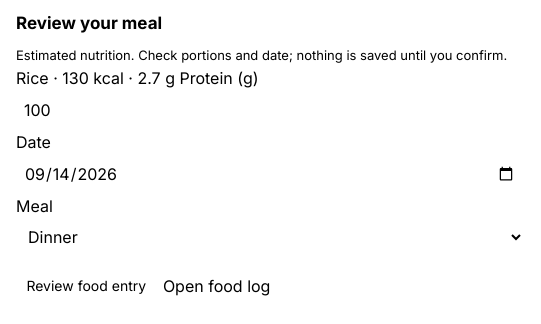
Test: text Food functional review controls › preselects an explicit dinner without writing: I ate 90 g banana for dinner today.
Check: the dropdown shows "Dinner", box [16,218,524,256]
What coordinates should you click on to do the following:
click the button "Review food entry"
I would click on:
 (86, 286)
Its box is [16,264,156,308].
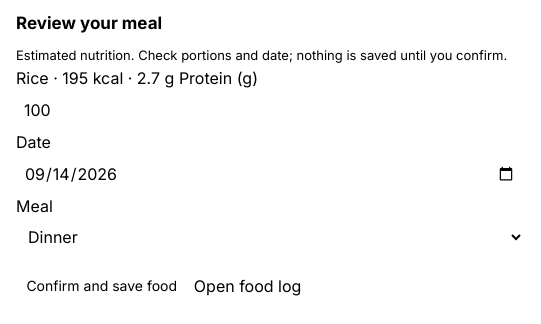
Check: the button "Confirm and save food" is shown, box [16,264,188,308]
